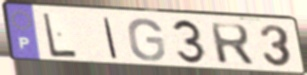3: (171, 17, 208, 67), (258, 24, 293, 69)
G: (126, 17, 168, 63)
I: (102, 16, 120, 61)
L: (41, 11, 79, 59)
R: (207, 22, 256, 67)
